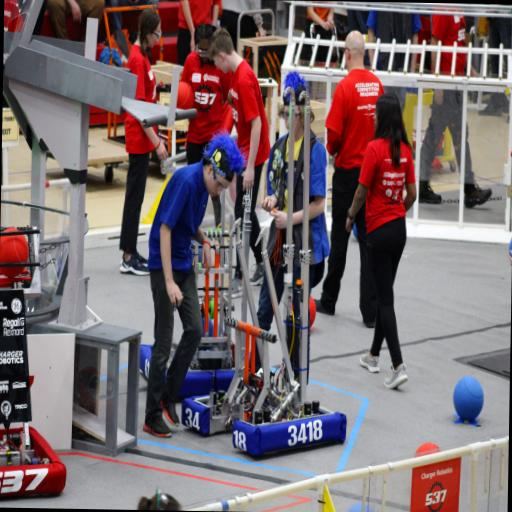robot: (179, 95, 352, 447), (135, 205, 251, 392), (0, 220, 72, 500)
